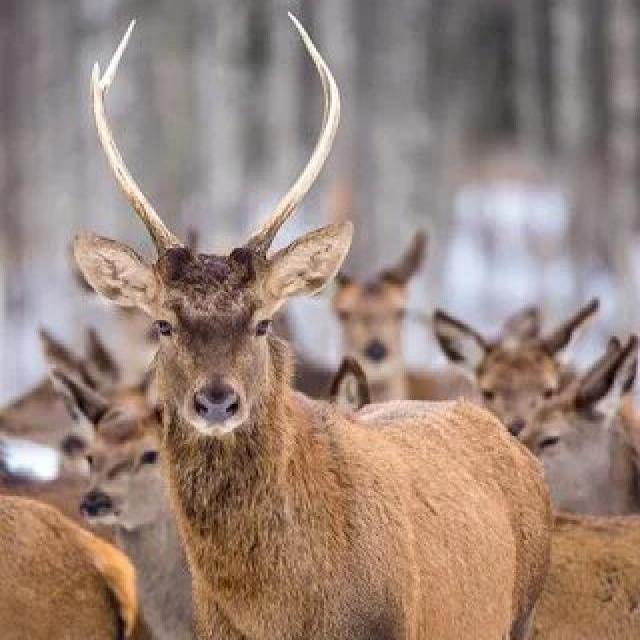deer: (53, 69, 594, 640)
